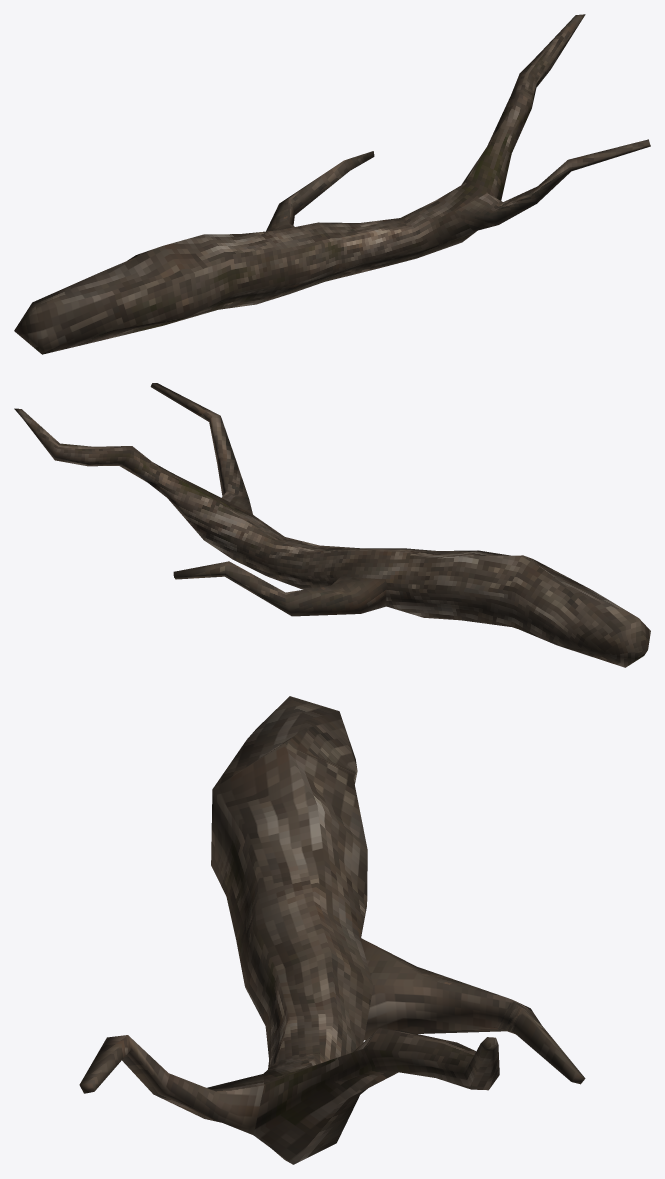
The model's file is tree_branch_2.fbx.
3 views of the same model, one above another, from view 1: azimuth 30°, elevation 25°; view 2: azimuth 150°, elevation 25°; view 3: azimuth 270°, elevation 25° (orthographic). The views are drawn at different scales.
Visible parts, largest first — view 1: tree_branch_2; view 2: tree_branch_2; view 3: tree_branch_2.
Boxes of the visible parts, left/top/right/bottom form: tree_branch_2: left=14, top=14, right=650, bottom=354; tree_branch_2: left=14, top=383, right=650, bottom=667; tree_branch_2: left=79, top=696, right=585, bottom=1164.
Bounding box in the file's own units: 281 × 104 × 69.18.
